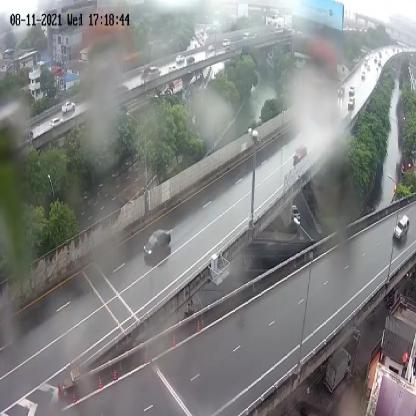car: (143, 226, 172, 264), (393, 210, 410, 246), (293, 144, 308, 166)
